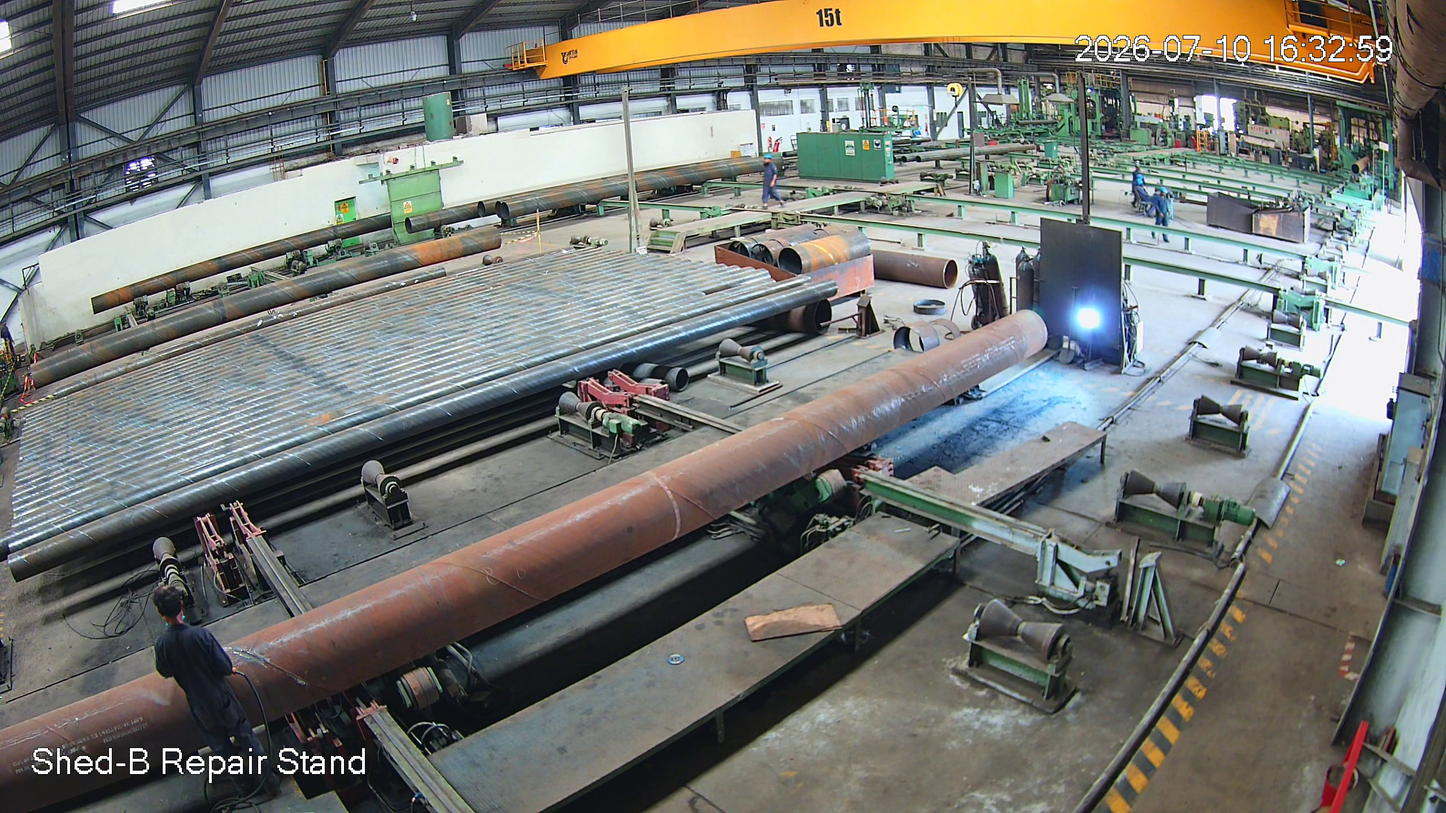Helmet: (762, 153, 773, 170)
Person: (148, 569, 287, 813), (761, 154, 784, 209)
